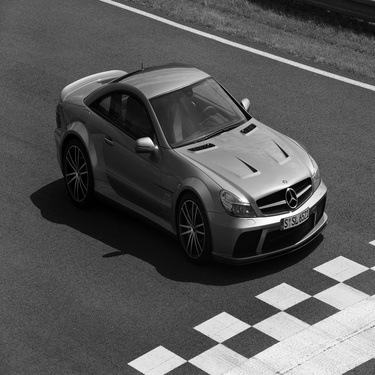car: (44, 60, 336, 270)
